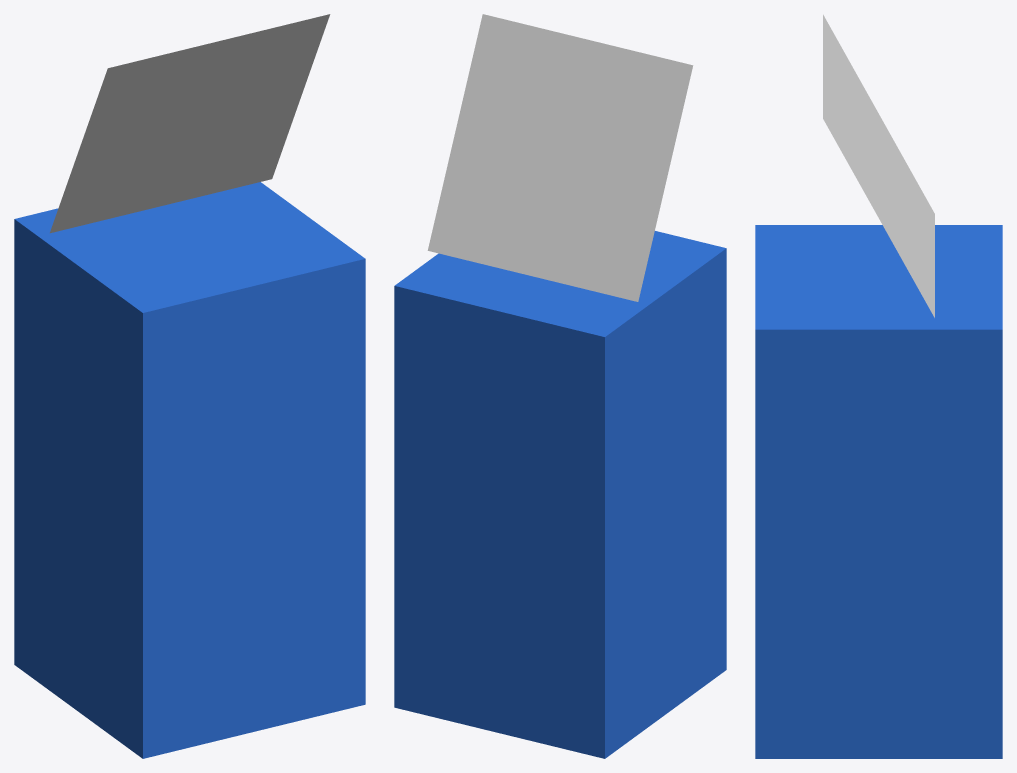
Rendered from testest.fbx.
The picture shows the model from 3 angles, left to right: view 1: azimuth 30°, elevation 25°; view 2: azimuth 150°, elevation 25°; view 3: azimuth 270°, elevation 25°; orthographic projection. The views are drawn at different scales.
Parts seen in each view (by area): view 1: Cube; view 2: Cube; view 3: Cube.
Boxes of the visible parts, x1,y1,x2,y2 form: Cube: [14, 14, 365, 758]; Cube: [394, 14, 726, 758]; Cube: [755, 14, 1002, 758].
Size of the model in its own units: 200 by 571 by 200.
